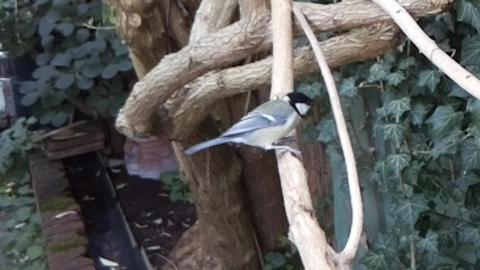great tit: (184, 92, 317, 158)
